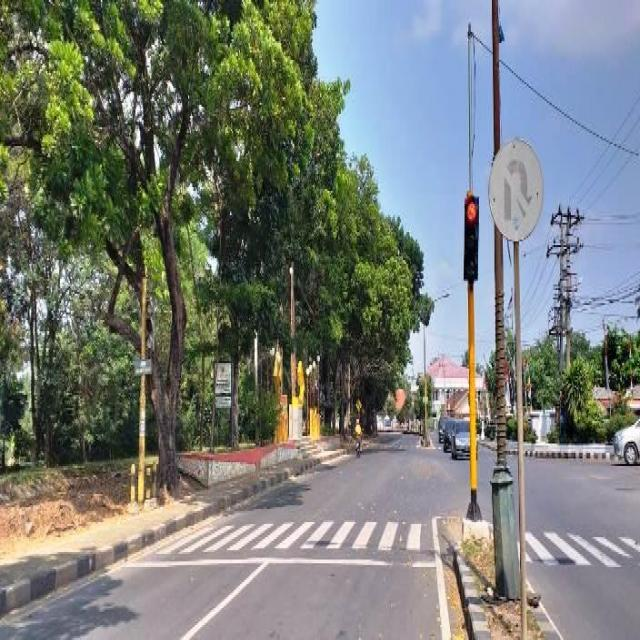red_light: (466, 189, 479, 286)
